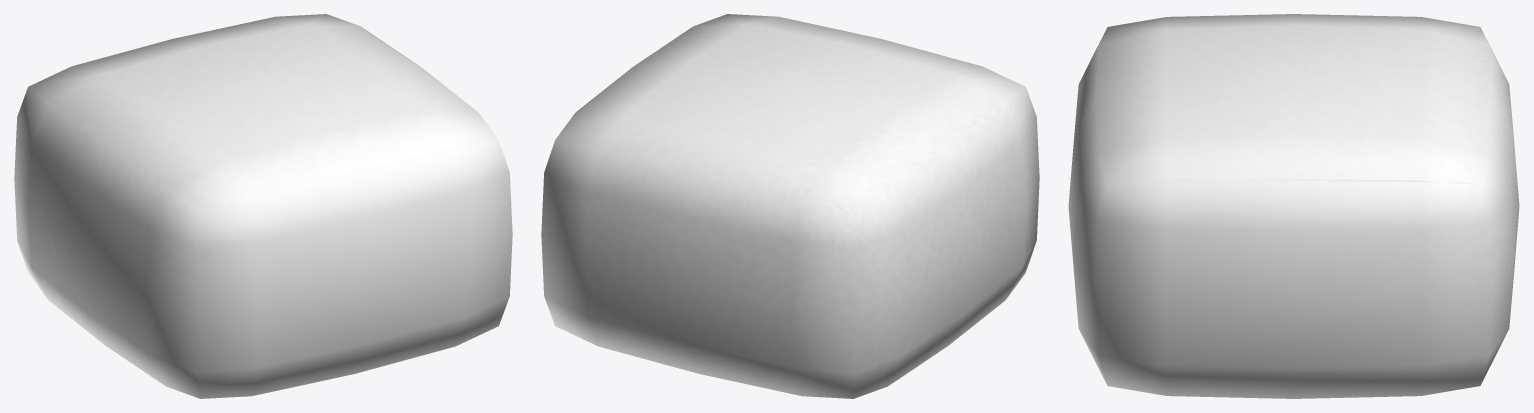
Rendered from water_corner_outer_00.obj.
The picture shows the model from 3 angles, left to right: view 1: azimuth 30°, elevation 25°; view 2: azimuth 150°, elevation 25°; view 3: azimuth 270°, elevation 25°; orthographic projection. The views are drawn at different scales.
Size of the model in its own units: 0.9575 by 0.6159 by 0.9575.
